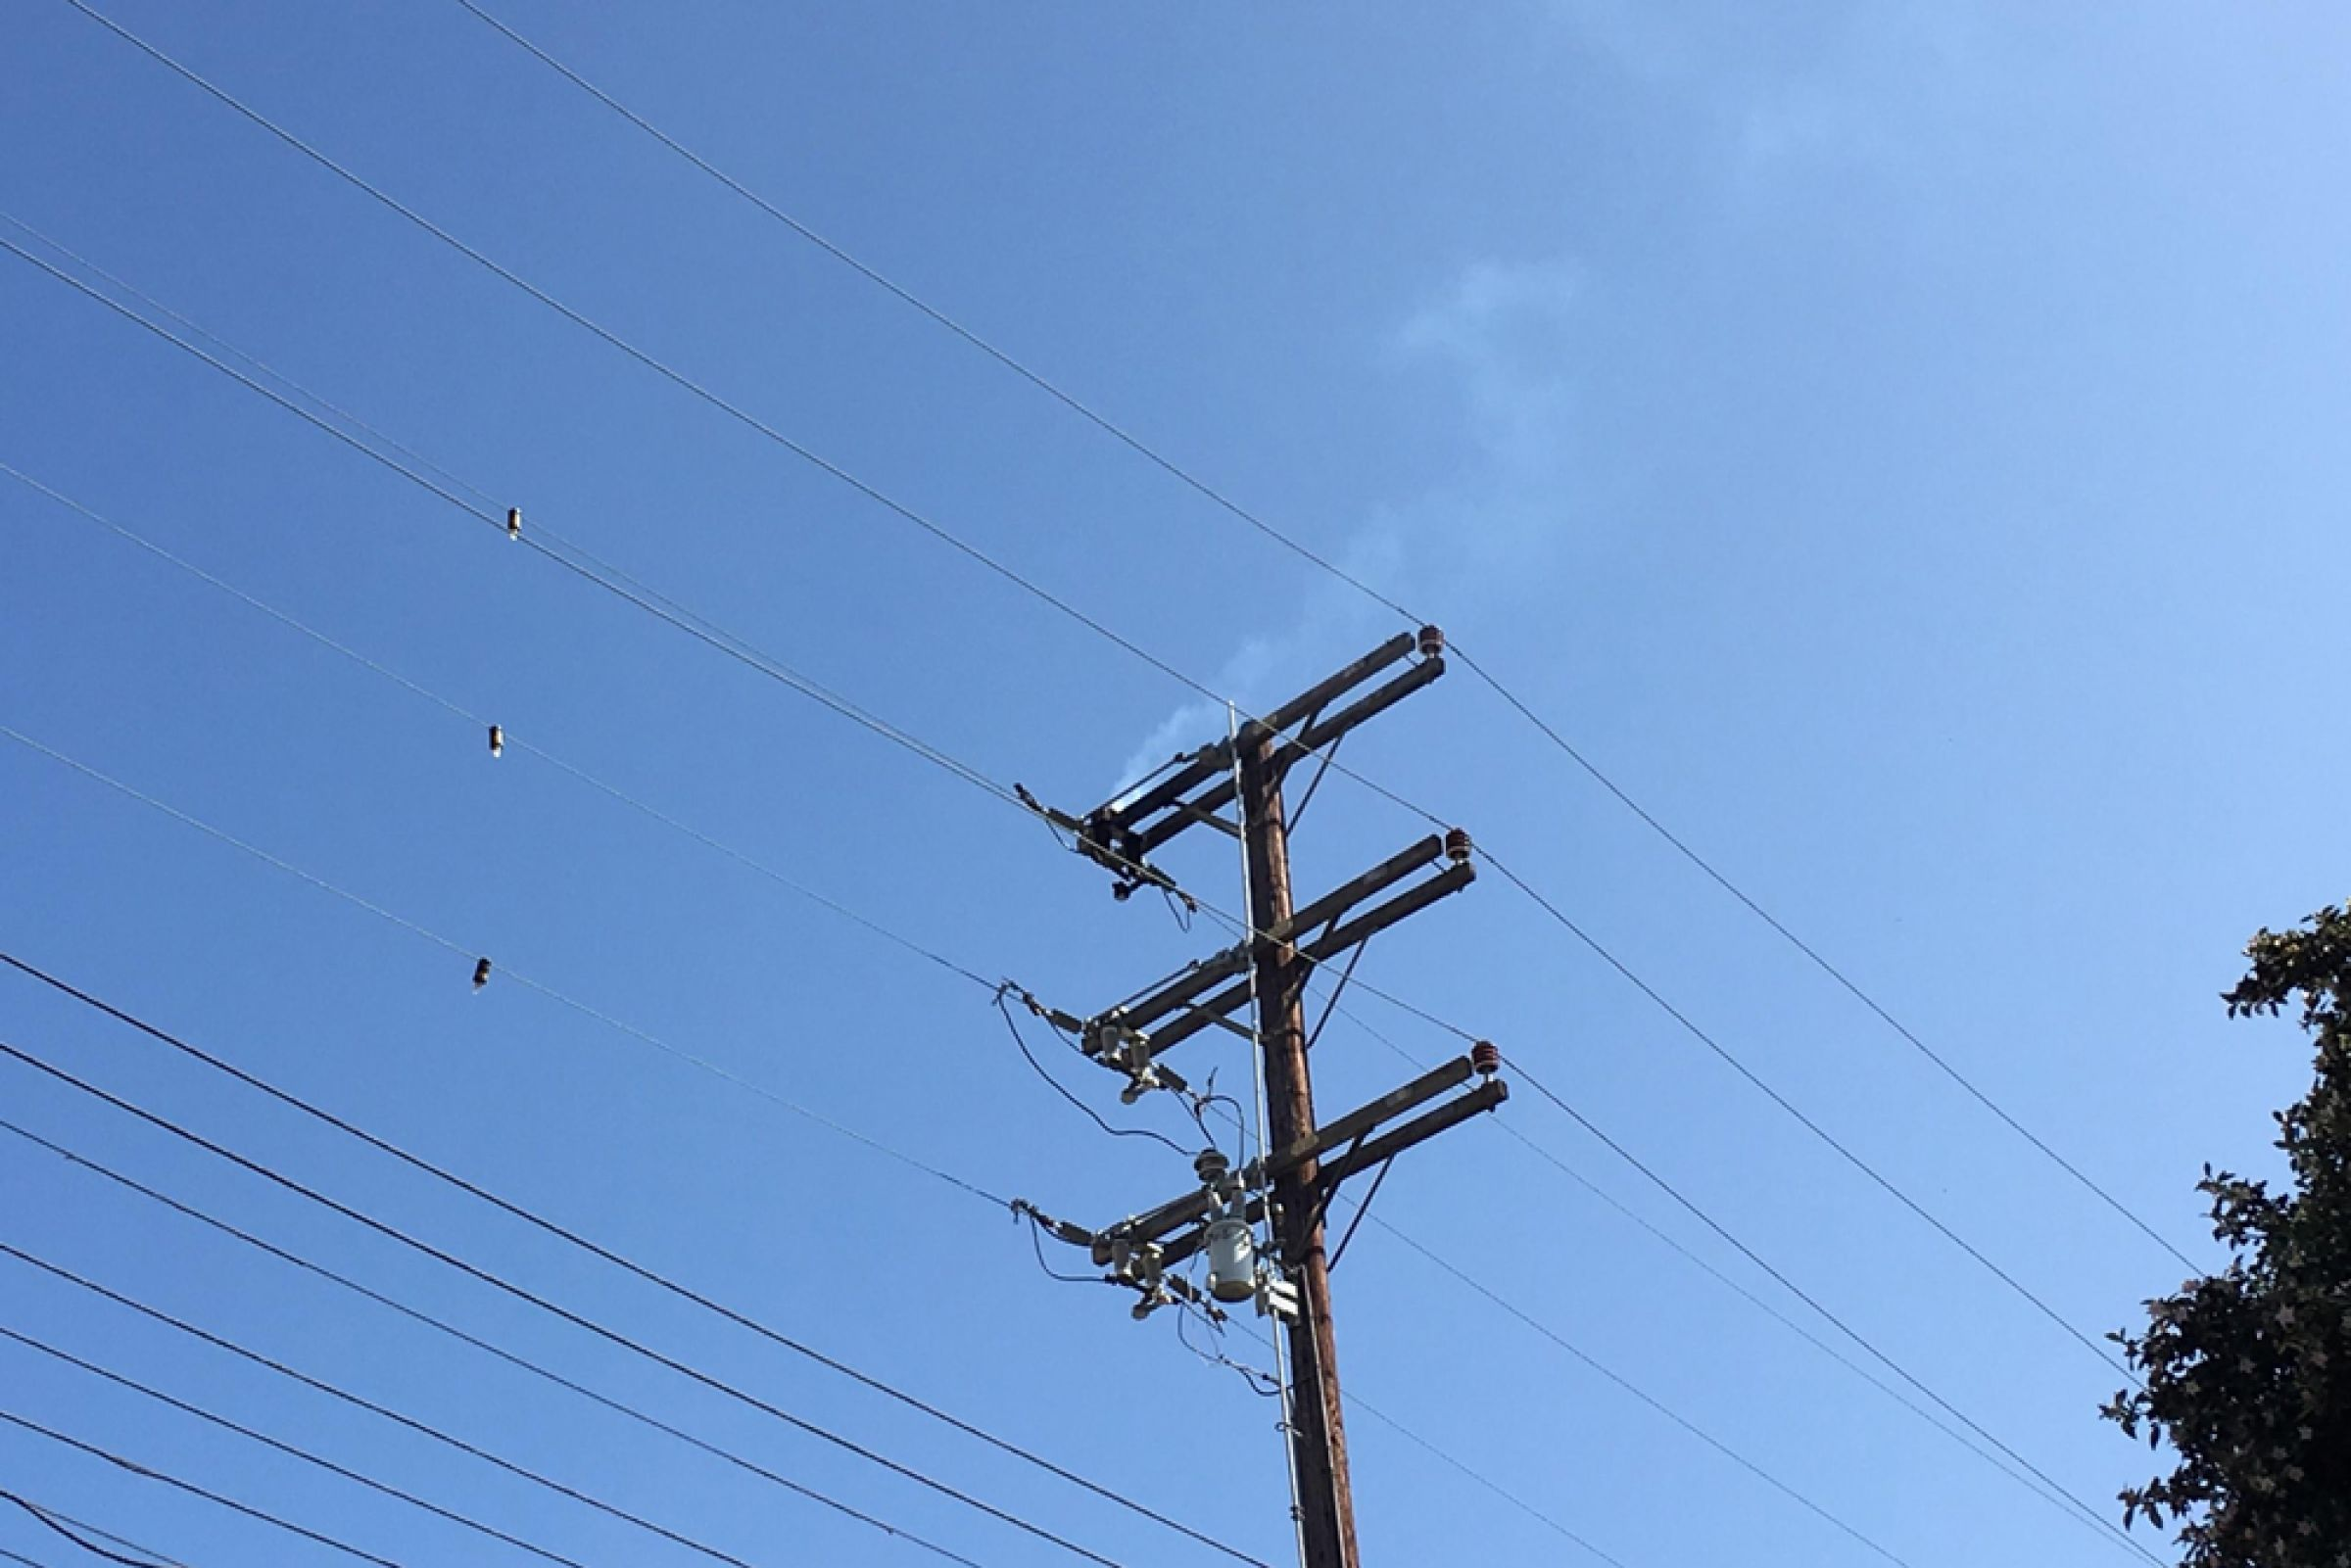utility_pole: (975, 598, 1535, 1396)
